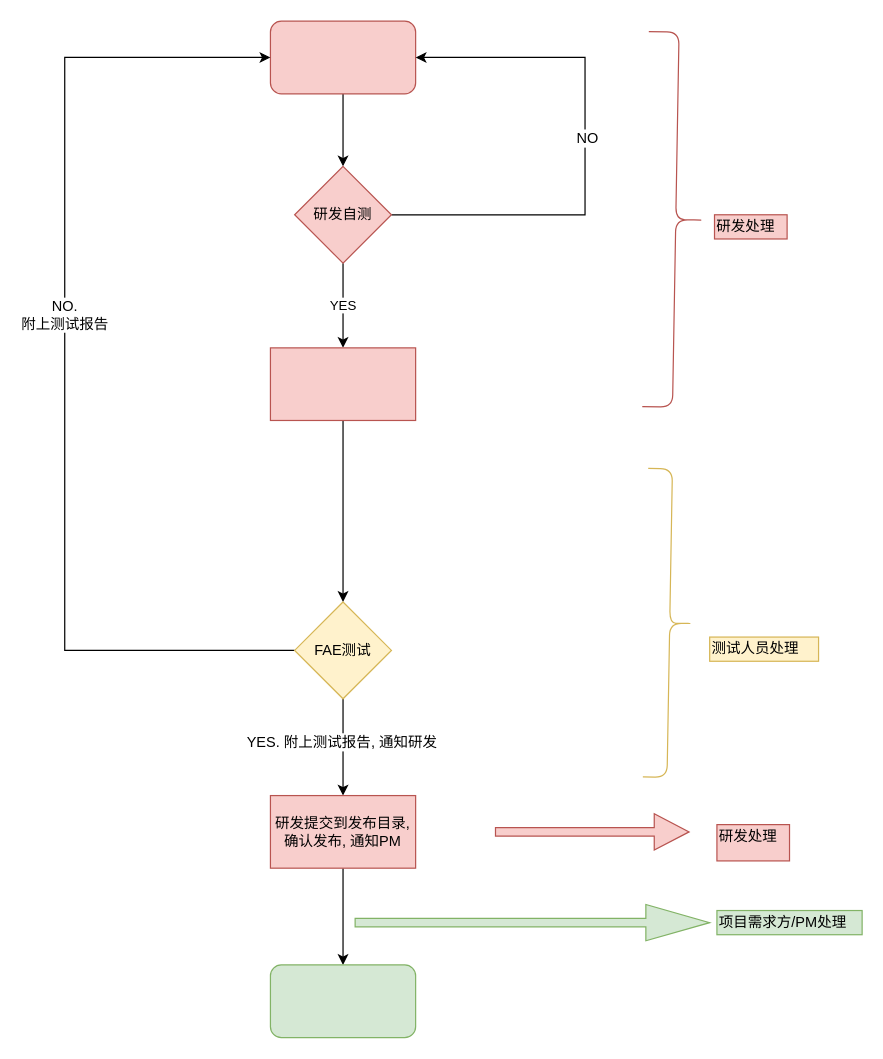
The diagram is 883 pixels wide and 1059 high, and some of its shapes have lost their labels. Each missing label, with the box of its shape:
提交到测试目录. 以及测试日志, 通知FAE测试: (269, 347, 416, 420)
生产发布导入: (269, 964, 416, 1038)
研发任务: (269, 20, 416, 94)
